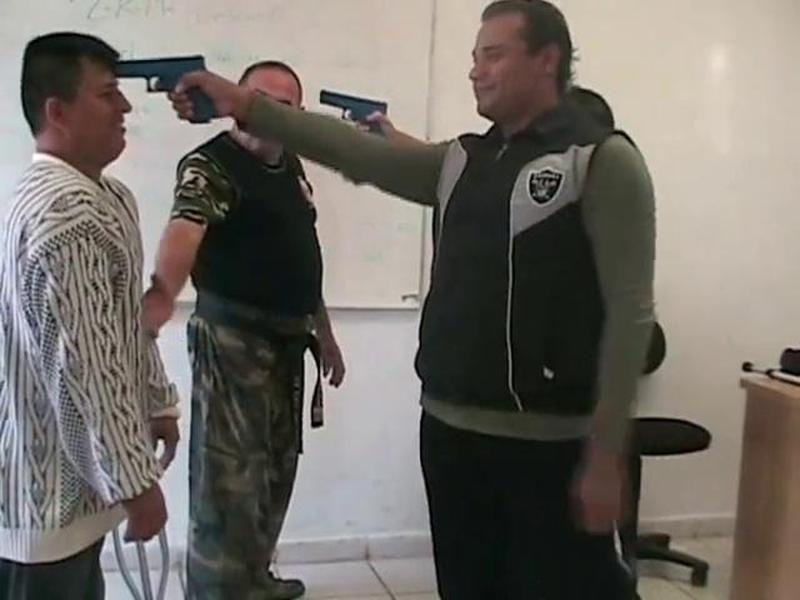Pistola: (98, 29, 220, 135), (319, 80, 401, 151)
